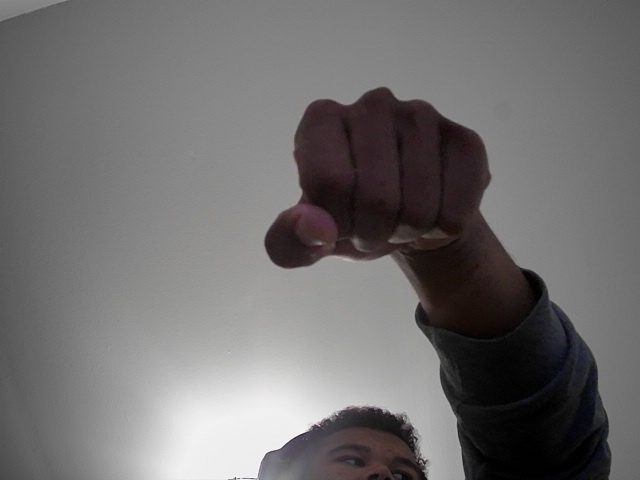Yes: (244, 80, 506, 274)
